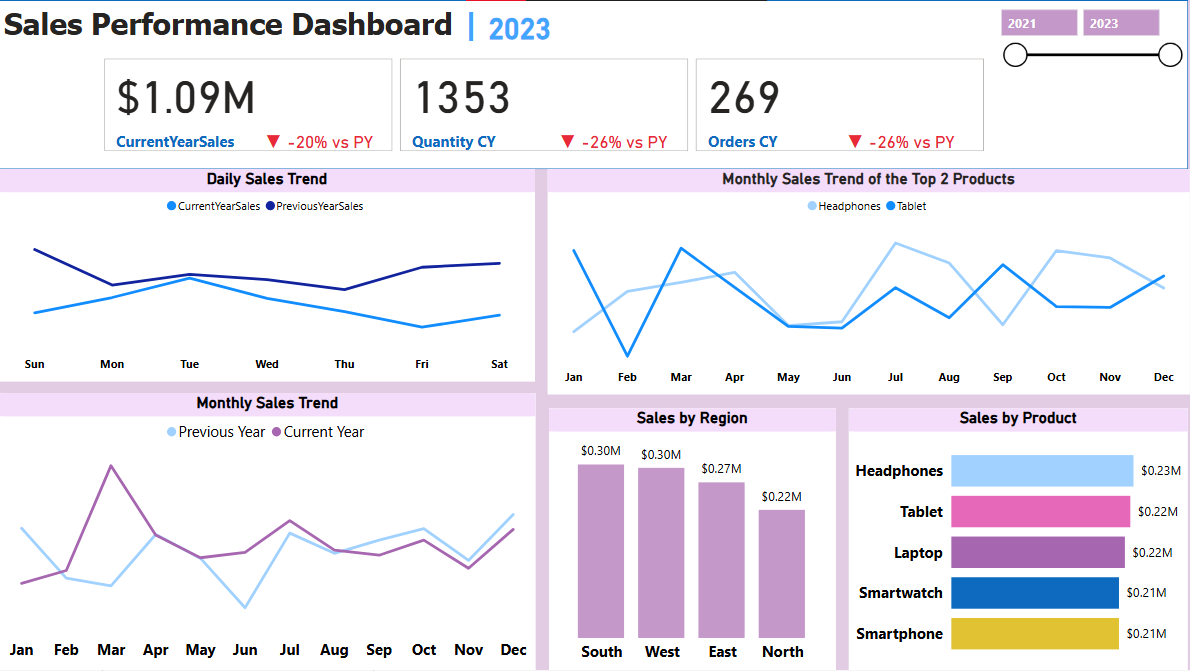

What the dashboard file says about the page in this screenshot:
{"tool":"powerbi","page":{"name":"Sales Dashboard","canvas":[1280,720],"ordinal":0},"visuals":[{"type":"shape","box":[0,0,1278,182],"z":0},{"type":"cardVisual","fields":{"Data":["All Measures.CurrentYearSales","All Measures.Quantity CY","All Measures.Orders CY"]},"box":[108,58,956,110],"z":1000},{"type":"lineChart","title":"Daily Sales Trend","fields":{"Category":["Date Table.Day Name"],"Y":["All Measures.CurrentYearSales","All Measures.PreviousYearSales"]},"box":[0,182,576,228],"z":2000},{"type":"lineChart","title":"Monthly Sales Trend","fields":{"Category":["Date Table.Month Name"],"Y":["All Measures.PreviousYearSales","All Measures.CurrentYearSales"]},"box":[0,423.3,576.7,297.1],"z":3000},{"type":"clusteredBarChart","title":"Sales by Product","fields":{"Category":["stellar_electronics_sales_data.Product"],"Y":["All Measures.CurrentYearSales"]},"box":[913.2,438.5,364.2,282.6],"z":4000},{"type":"clusteredColumnChart","title":"Sales by Region","fields":{"Category":["stellar_electronics_sales_data.Region"],"Y":["All Measures.CurrentYearSales"]},"box":[590.7,438.5,308,282.6],"z":5000},{"type":"lineChart","title":"Monthly Sales Trend of the Top 2 Products ","fields":{"Category":["Date Table.Month Name"],"Series":["stellar_electronics_sales_data.Product"],"Y":["All Measures.Top2Categories Sales by Month CY"]},"box":[590,182,690,242],"z":6000},{"type":"slicer","fields":{"Values":["Date Table.Year"]},"box":[1064,0,216,80],"z":7000},{"type":"card","fields":{"Values":["All Measures.Revenue Y/Y%"]},"box":[274,138,140,30],"z":8000},{"type":"card","fields":{"Values":["All Measures.Quantity Y/Y%"]},"box":[590,138,140,30],"z":9000},{"type":"card","fields":{"Values":["All Measures.Orders Y/Y%"]},"box":[898,138,140,30],"z":10000},{"type":"textbox","box":[0,0,532,58],"z":11000},{"type":"card","fields":{"Values":["All Measures.Current Year"]},"box":[502,0,114,58],"z":12000}]}

Visuals, with their boxes in screenshot pixels (x1, y1, x2, y2), scaled from the page's 1280x720 canvas onto the 1190x671 screenshot:
shape: 0/0/1188/170
cardVisual - All Measures.CurrentYearSales x All Measures.Quantity CY: 100/54/989/157
"Daily Sales Trend" lineChart: 0/170/536/382
"Monthly Sales Trend" lineChart: 0/394/536/670
"Sales by Product" clusteredBarChart: 849/409/1188/670
"Sales by Region" clusteredColumnChart: 549/409/836/670
"Monthly Sales Trend of the Top 2 Products " lineChart: 549/170/1189/395
slicer - Date Table.Year: 989/0/1189/75
card - All Measures.Revenue Y/Y%: 255/129/385/157
card - All Measures.Quantity Y/Y%: 549/129/679/157
card - All Measures.Orders Y/Y%: 835/129/965/157
textbox: 0/0/495/54
card - All Measures.Current Year: 467/0/573/54
